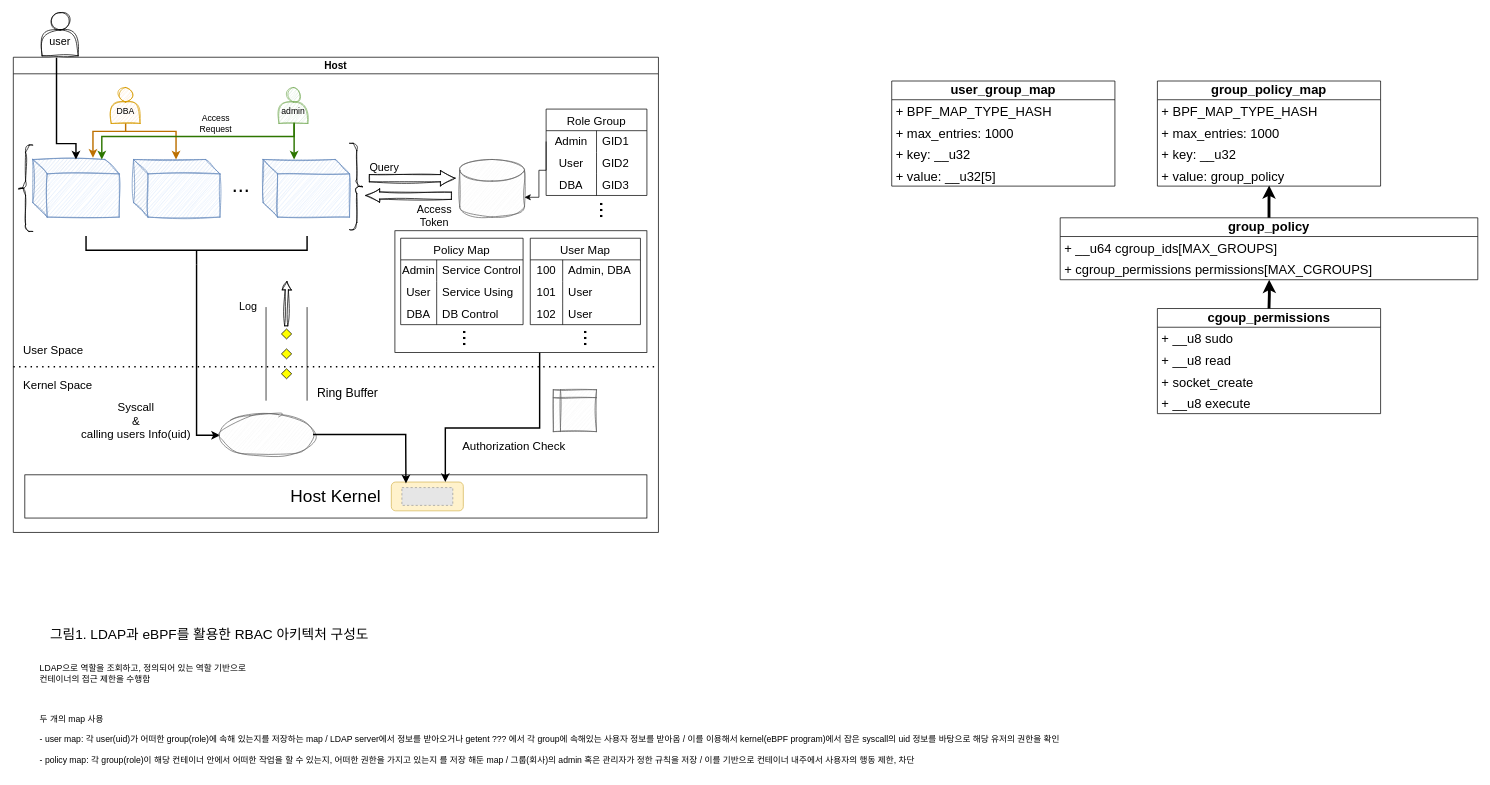
Image size: 1490x785. Some labels were removed from this diagram. Grey dashed boxes stand in for pictures. Each missing label, with the centre of its shape:
"DB" goes at (x=176, y=188).
"Etc." goes at (x=306, y=188).
"Hook" goes at (x=267, y=435).
"LDAP Server" goes at (x=492, y=188).
"Map" goes at (x=575, y=410).
"WEB" goes at (x=75, y=188).
